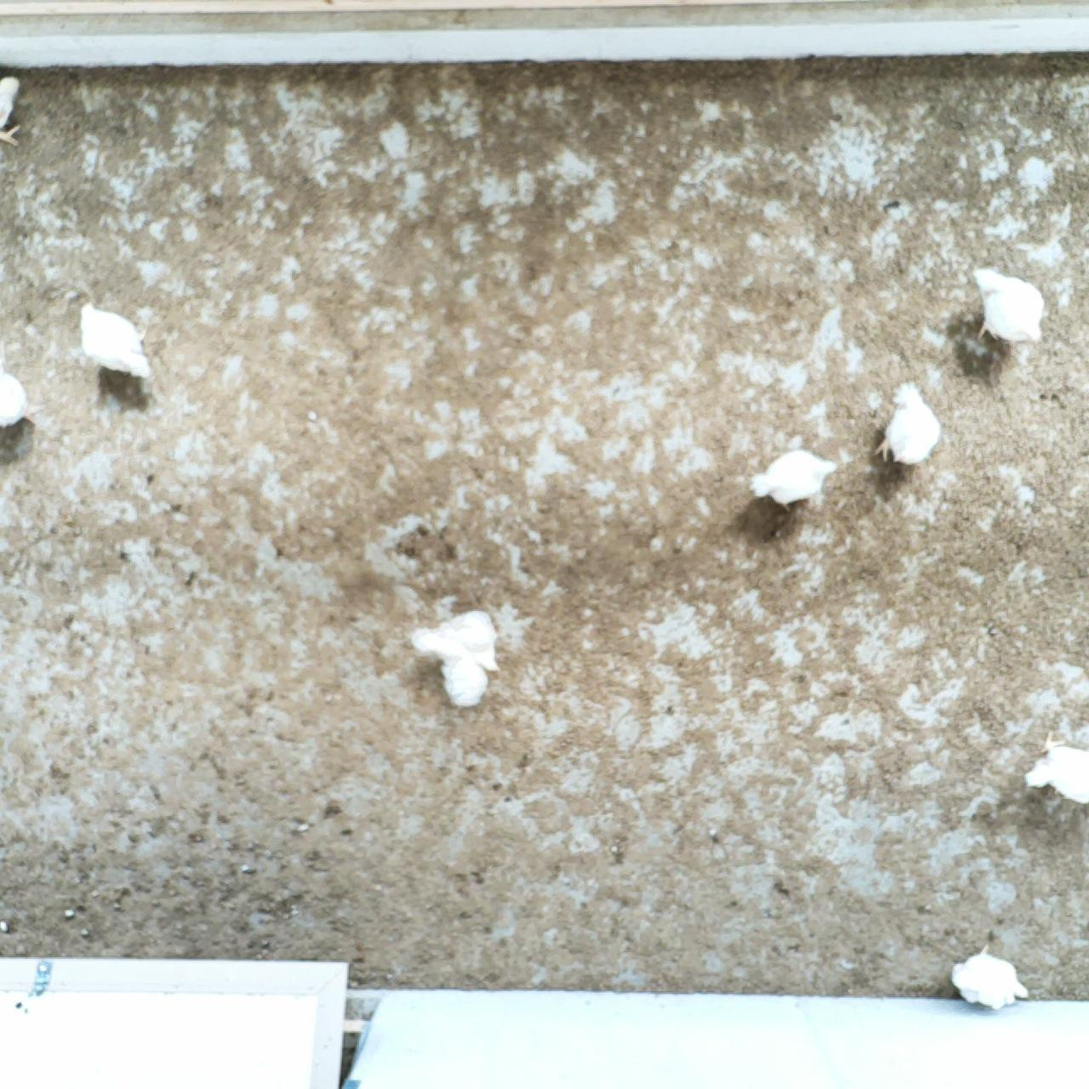chicken: (409, 604, 503, 713), (867, 376, 946, 471), (965, 263, 1049, 351), (76, 299, 157, 386), (748, 444, 841, 518), (947, 940, 1032, 1012), (1021, 726, 1089, 807), (0, 366, 41, 438)
